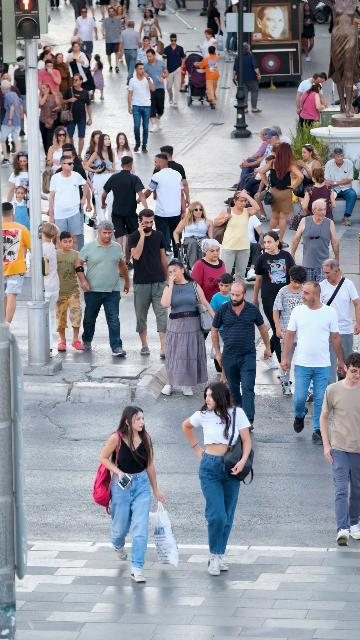person: (182, 381, 251, 576), (97, 405, 166, 583), (279, 280, 346, 446), (211, 279, 273, 433), (320, 352, 360, 547), (160, 259, 216, 397), (75, 220, 130, 359), (252, 230, 296, 370), (129, 209, 170, 359), (272, 265, 314, 401), (316, 258, 360, 385), (101, 156, 149, 265), (140, 153, 187, 254), (46, 155, 94, 251), (261, 141, 304, 248), (0, 200, 31, 344), (224, 127, 281, 205), (213, 190, 261, 281), (290, 198, 340, 284), (53, 231, 85, 352), (82, 133, 116, 224), (173, 200, 214, 269), (228, 127, 272, 191), (324, 147, 357, 227), (127, 63, 155, 154), (240, 155, 275, 222), (191, 238, 226, 304), (143, 48, 169, 133), (231, 43, 262, 114), (0, 79, 25, 167), (41, 222, 61, 323), (160, 145, 190, 208), (38, 82, 63, 157), (302, 167, 336, 221), (162, 33, 186, 109), (117, 18, 142, 88), (193, 45, 220, 109), (296, 72, 327, 127), (295, 143, 322, 204), (296, 84, 326, 134), (5, 151, 31, 204), (102, 7, 122, 73), (247, 215, 265, 282), (45, 127, 70, 172), (6, 185, 30, 231), (52, 52, 76, 94), (138, 8, 163, 48), (112, 132, 135, 174), (210, 273, 234, 312), (37, 59, 62, 94), (73, 10, 98, 45), (90, 54, 105, 100), (136, 35, 155, 70), (207, 0, 224, 36), (115, 5, 128, 36), (37, 49, 52, 73), (38, 44, 53, 61), (83, 4, 104, 5)
